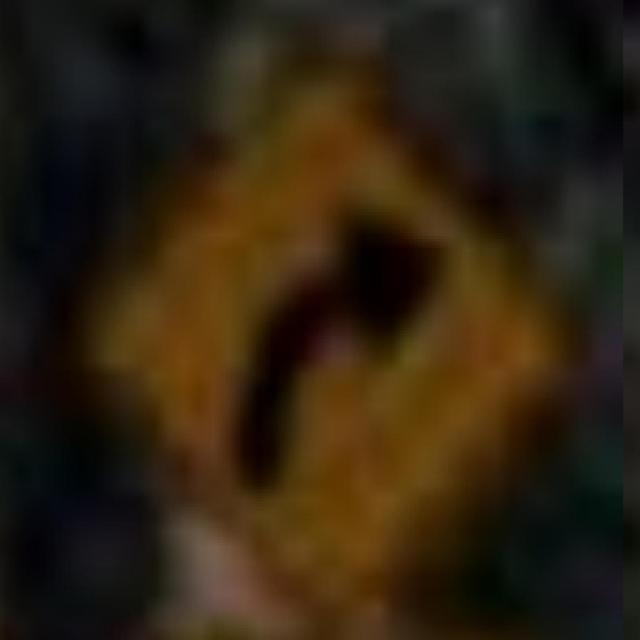Tikungan Ke Kanan: (64, 47, 550, 596)
